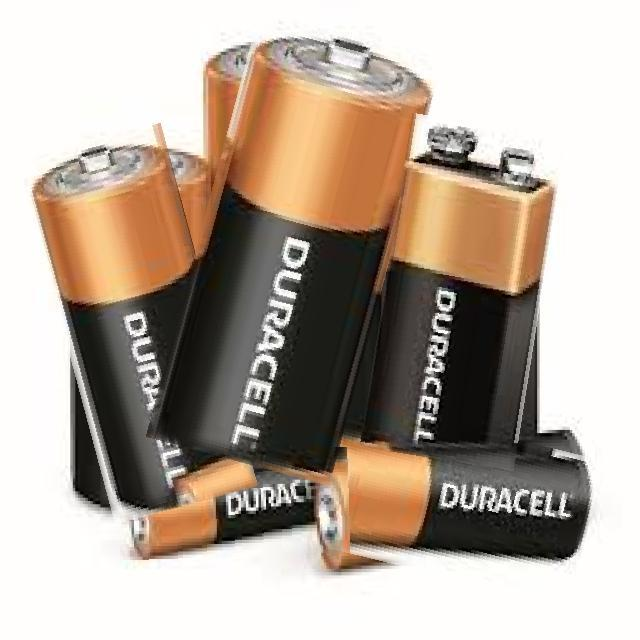Battery: (154, 35, 438, 478), (31, 137, 203, 507), (363, 119, 557, 445), (310, 441, 590, 570), (129, 470, 322, 560), (203, 45, 259, 168), (168, 148, 216, 251)
